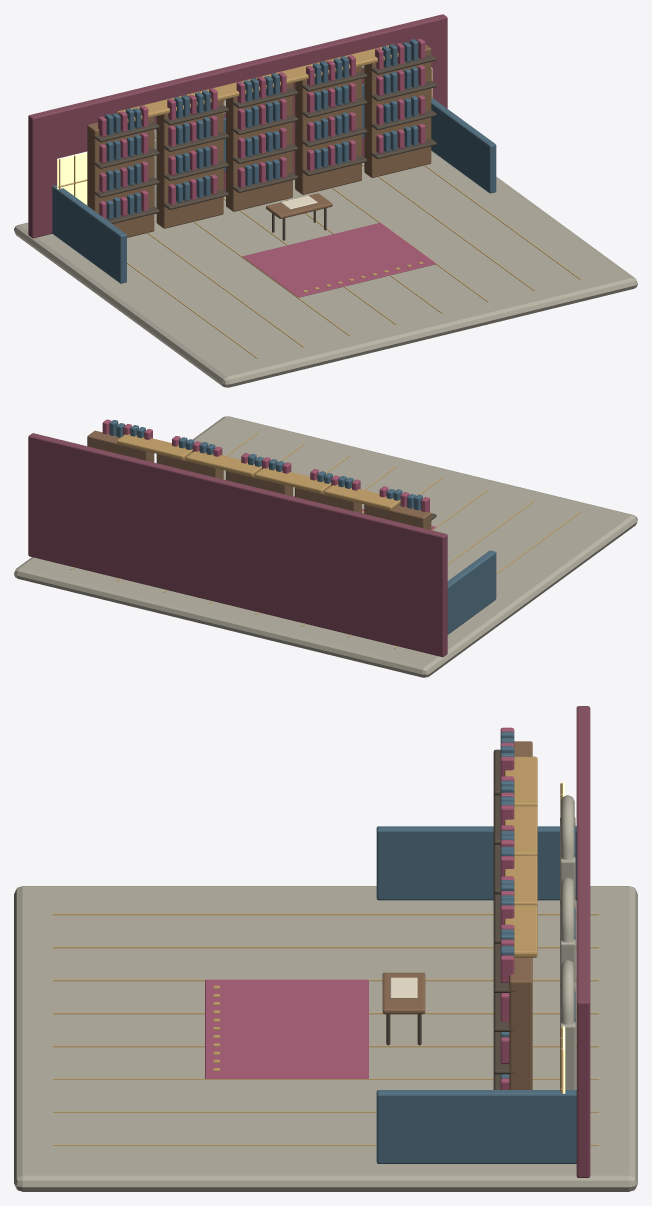
File: beast_library-BCkfOwM3.glb
The picture shows the model from 3 angles, top to bottom: view 1: azimuth 30°, elevation 25°; view 2: azimuth 150°, elevation 25°; view 3: azimuth 270°, elevation 25°; orthographic projection. The views are drawn at different scales.
Parts seen in each view (by area): view 1: world_stone.048, world_Story primary.023, world_rose.048, world_wood.048, world_Story secondary.023, world_darkwood.048, world_Story accent.023, world_brass.048, world_Window pearl glow.004; view 2: world_Story secondary.023, world_stone.048, world_Story primary.023, world_wood.048, world_brass.048, world_rose.048, world_Story accent.023; view 3: world_stone.048, world_Story primary.023, world_rose.048, world_Story accent.023, world_Story secondary.023, world_brass.048, world_wood.048, world_darkwood.048.
Boxes of the visible parts, box(x1,y1,x2,y2) form: world_stone.048: box(14, 65, 637, 387); world_Story primary.023: box(52, 39, 496, 283); world_rose.048: box(98, 38, 436, 297); world_wood.048: box(87, 44, 431, 237); world_Story secondary.023: box(28, 14, 447, 238); world_darkwood.048: box(93, 54, 436, 240); world_Story accent.023: box(127, 164, 581, 358); world_brass.048: box(58, 45, 432, 292); world_Window pearl glow.004: box(57, 67, 432, 205); world_Story secondary.023: box(28, 433, 447, 657); world_stone.048: box(14, 416, 637, 677); world_Story primary.023: box(109, 420, 496, 634); world_wood.048: box(87, 430, 431, 529); world_brass.048: box(117, 434, 400, 513); world_rose.048: box(102, 419, 435, 530); world_Story accent.023: box(70, 432, 581, 648); world_stone.048: box(14, 795, 637, 1191); world_Story primary.023: box(376, 731, 576, 1163); world_rose.048: box(205, 727, 514, 1089); world_Story accent.023: box(53, 913, 598, 1145); world_Story secondary.023: box(576, 706, 590, 1177); world_brass.048: box(213, 756, 562, 1092); world_wood.048: box(382, 741, 532, 1089); world_darkwood.048: box(386, 749, 514, 1089).
Size of the model in its own units: 18 by 5.78 by 16.
